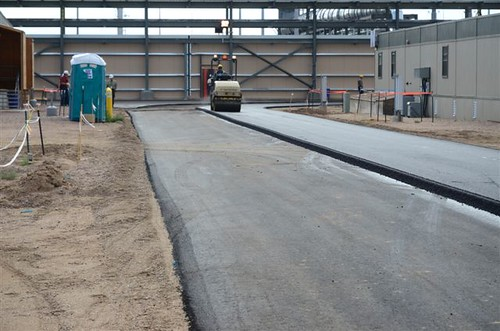building: (372, 19, 500, 120)
chemical toilet: (65, 53, 108, 120)
street: (141, 110, 488, 331)
